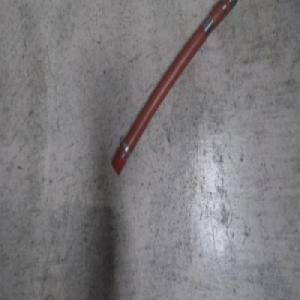Hose: (109, 0, 238, 176)
